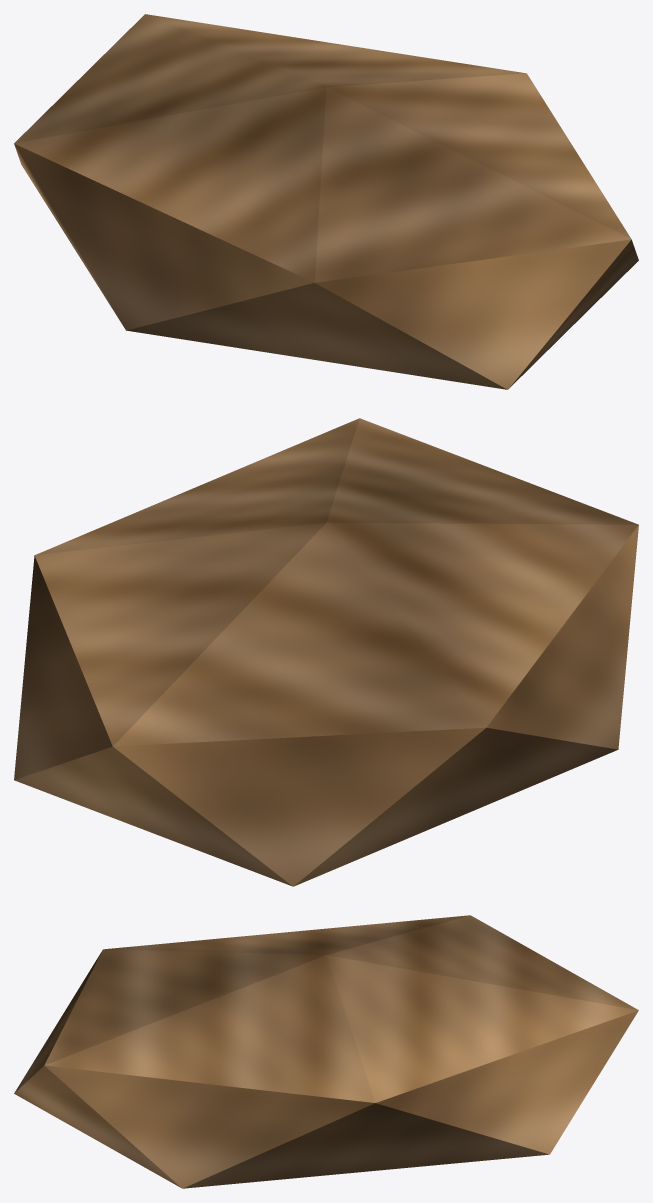
Rendered from 2019_sandstone_talus_14.dae.
3 views of the same model, one above another, from view 1: azimuth 30°, elevation 25°; view 2: azimuth 150°, elevation 25°; view 3: azimuth 270°, elevation 25° (orthographic). The views are drawn at different scales.
Parts seen in each view (by area): view 1: Node; view 2: Node; view 3: Node.
Boxes of the visible parts, bbox=[...] form: Node: bbox=[14, 14, 638, 389]; Node: bbox=[14, 418, 638, 886]; Node: bbox=[14, 915, 638, 1188].
Size of the model in its own units: 0.763 by 1.07 by 0.3648.
1 material, 1 textured.
